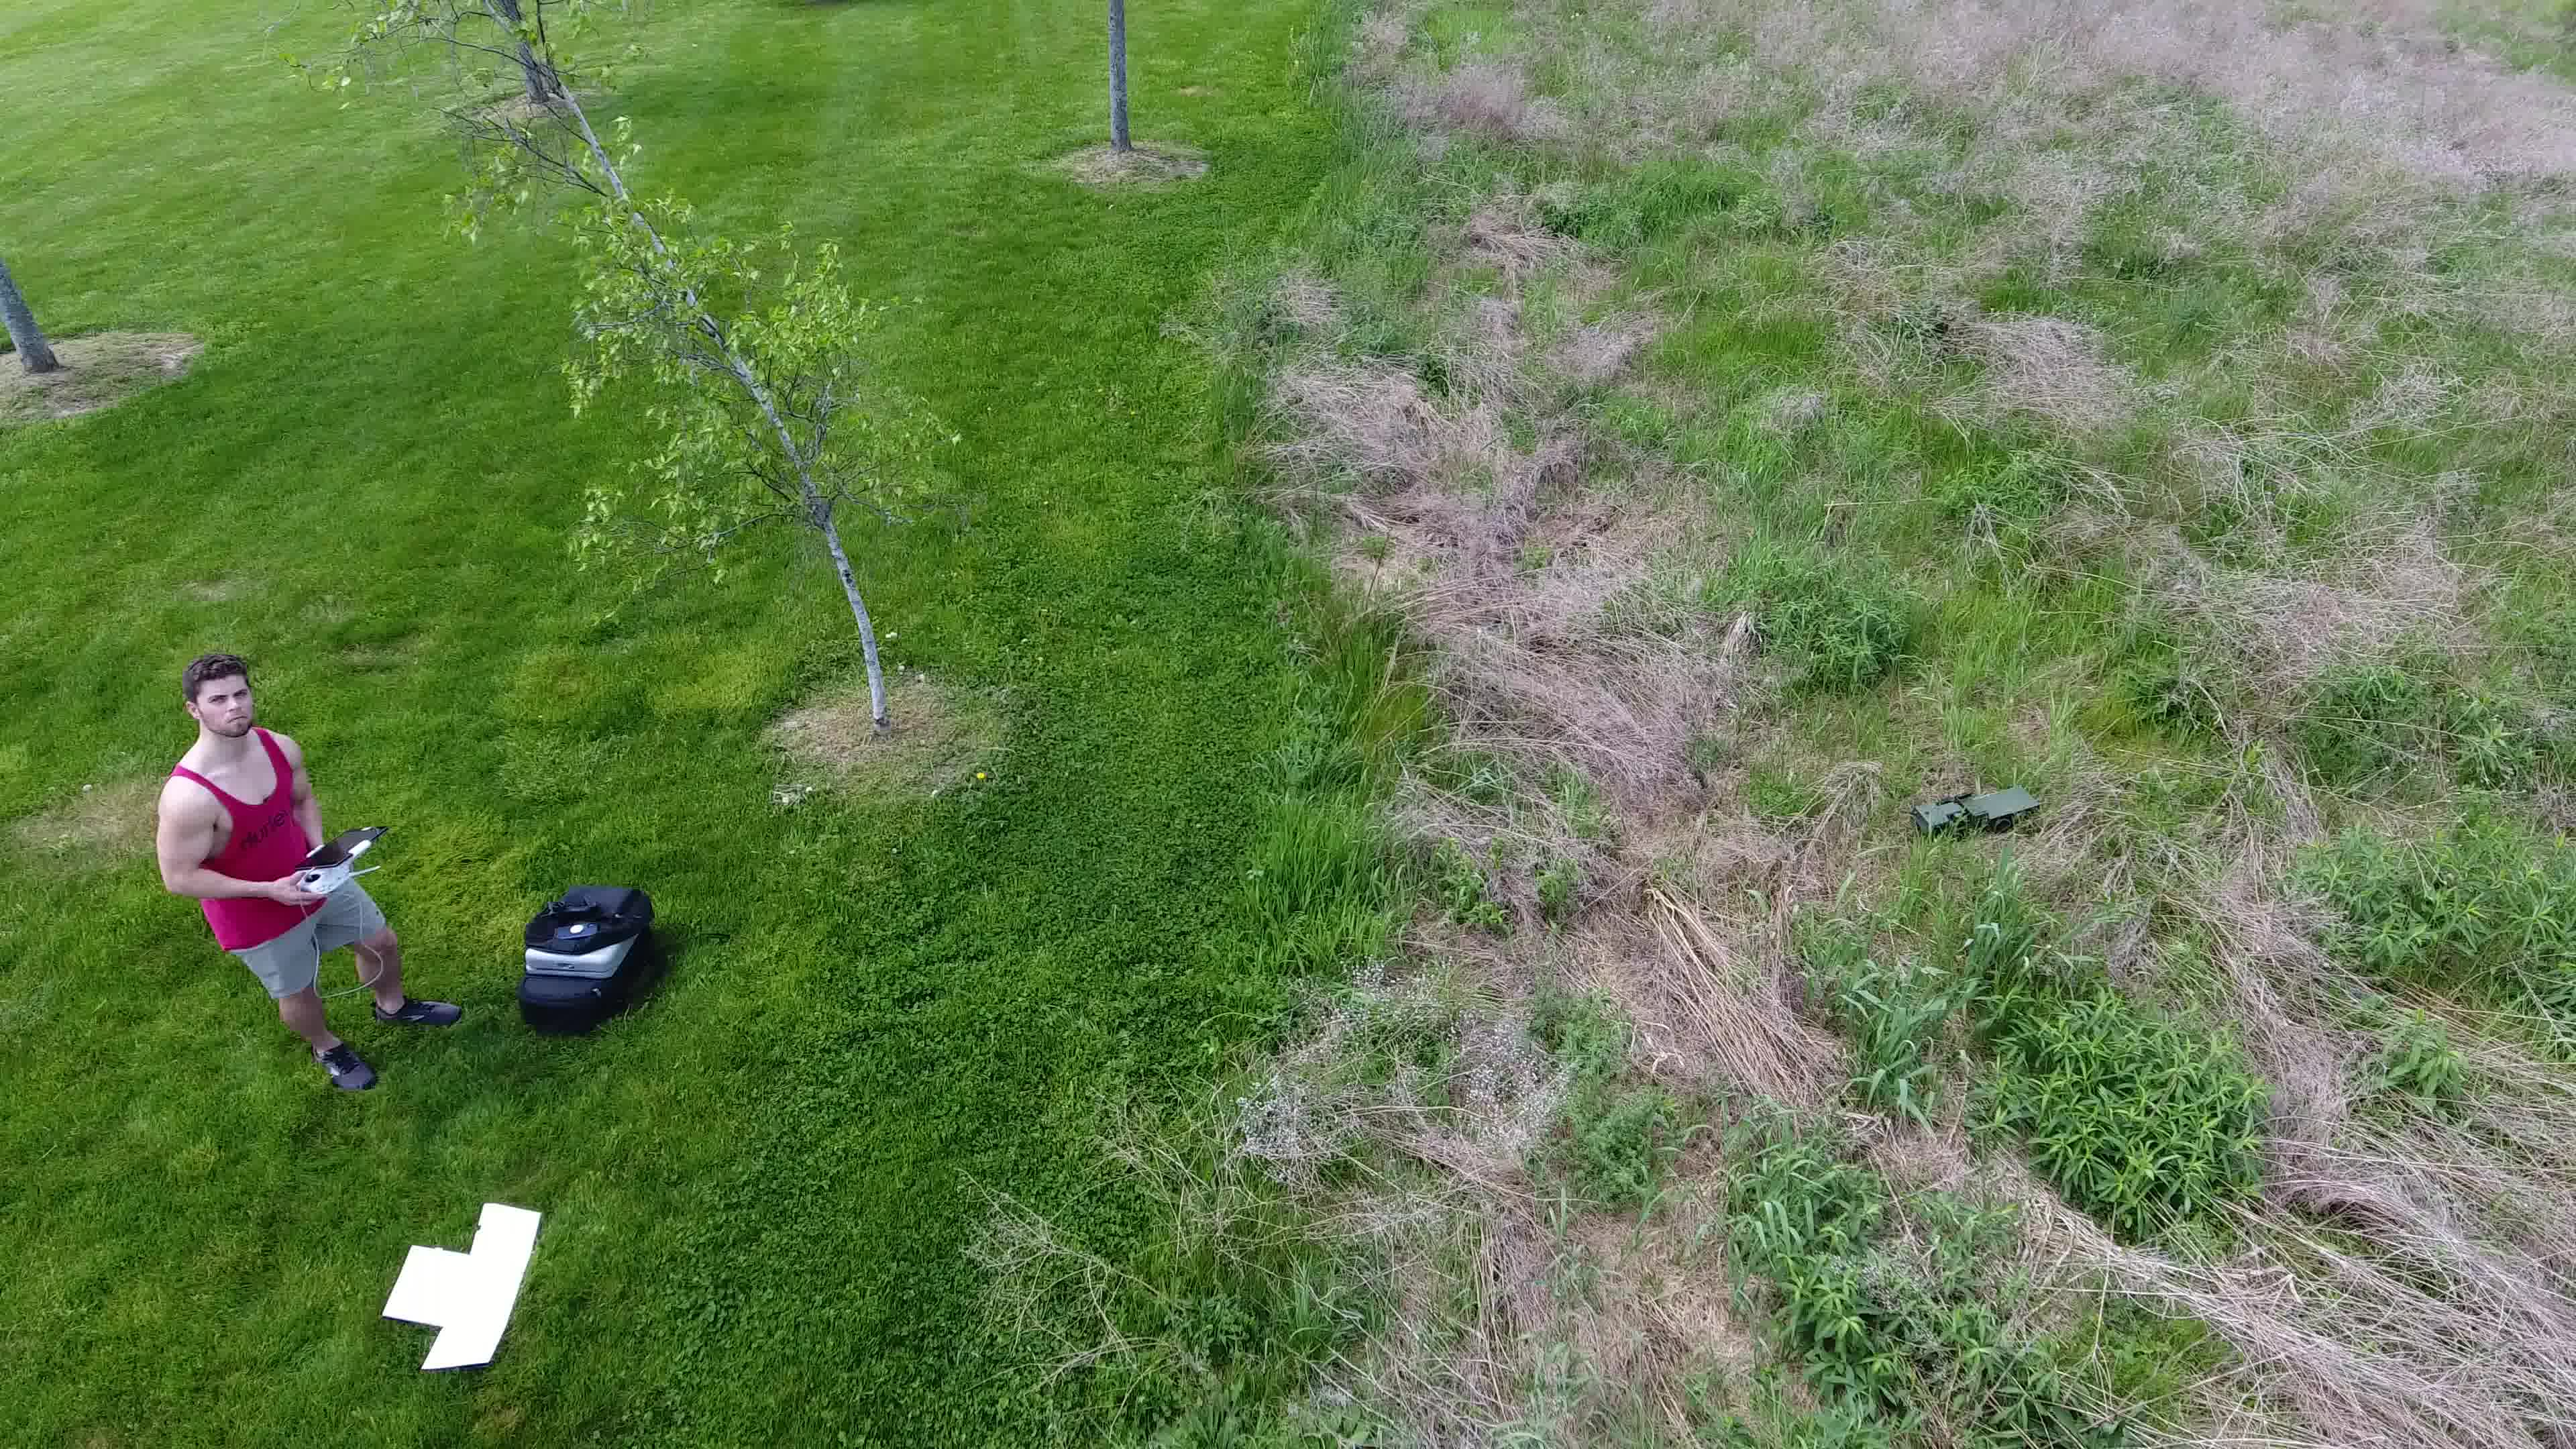transporter9: (1905, 773, 2043, 844)
